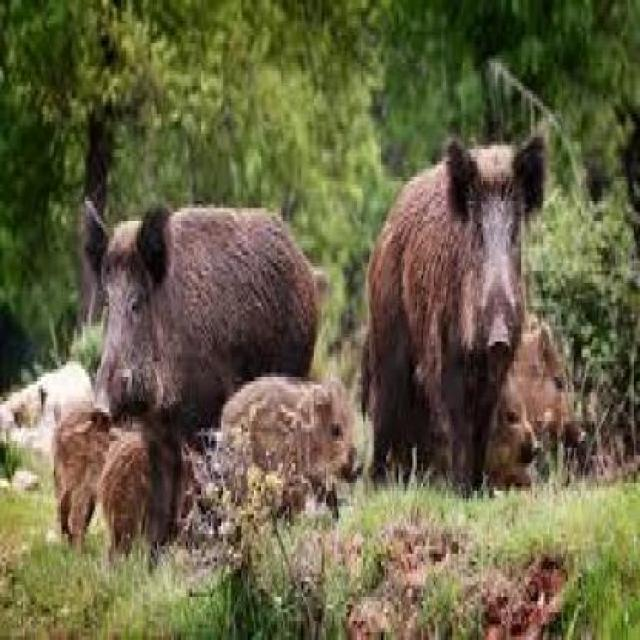wildboar: (81, 194, 336, 538), (355, 131, 550, 498), (209, 369, 363, 540), (455, 312, 590, 498), (440, 369, 538, 497), (52, 390, 128, 553), (98, 410, 168, 555)
